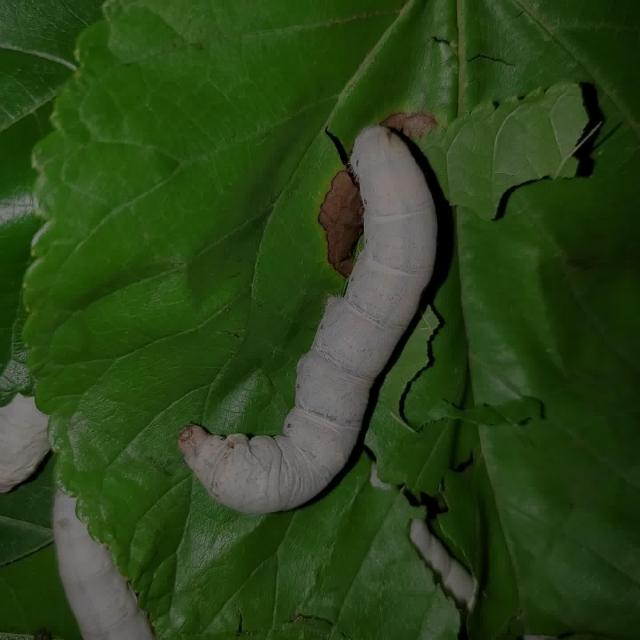Healthy: (159, 89, 463, 538)
